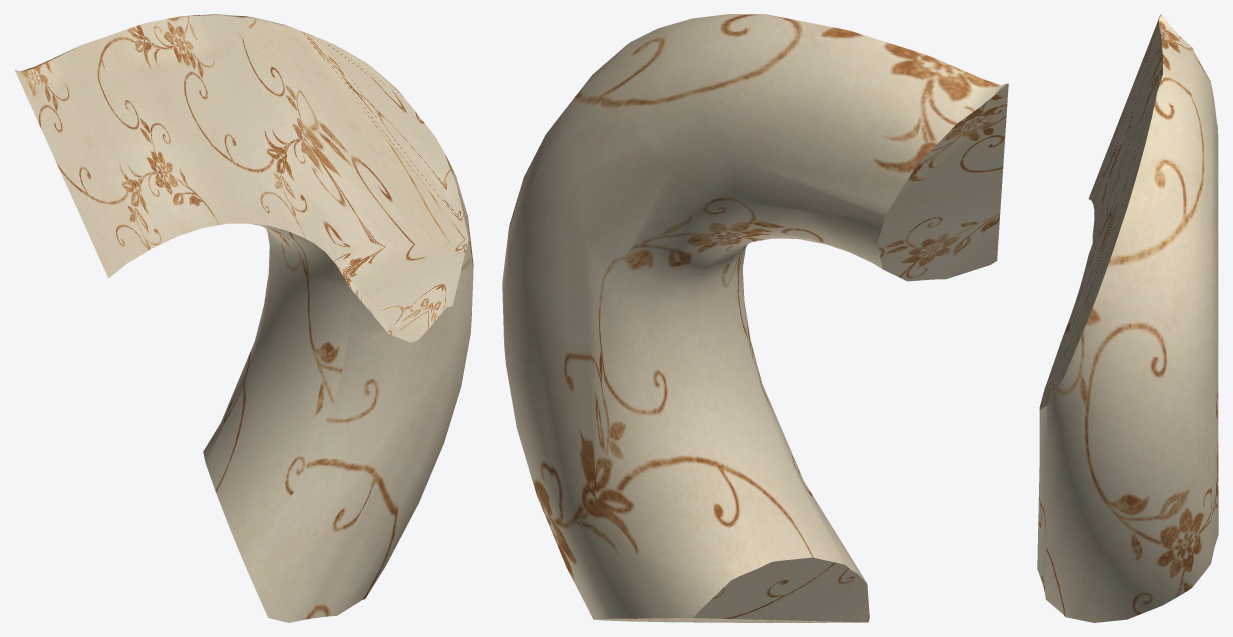
3 views of the same model, side by side, from view 1: azimuth 30°, elevation 25°; view 2: azimuth 150°, elevation 25°; view 3: azimuth 270°, elevation 25° (orthographic). The views are drawn at different scales.
Visible parts, largest first — view 1: Cylinder_cell.005; view 2: Cylinder_cell.005; view 3: Cylinder_cell.005.
Boxes of the visible parts, left/top/right/bottom form: Cylinder_cell.005: left=14, top=14, right=473, bottom=622; Cylinder_cell.005: left=502, top=14, right=1008, bottom=622; Cylinder_cell.005: left=1037, top=14, right=1218, bottom=622.
Size of the model in its own units: 0.5628 by 0.7248 by 0.2427.
1 material, 1 textured.
